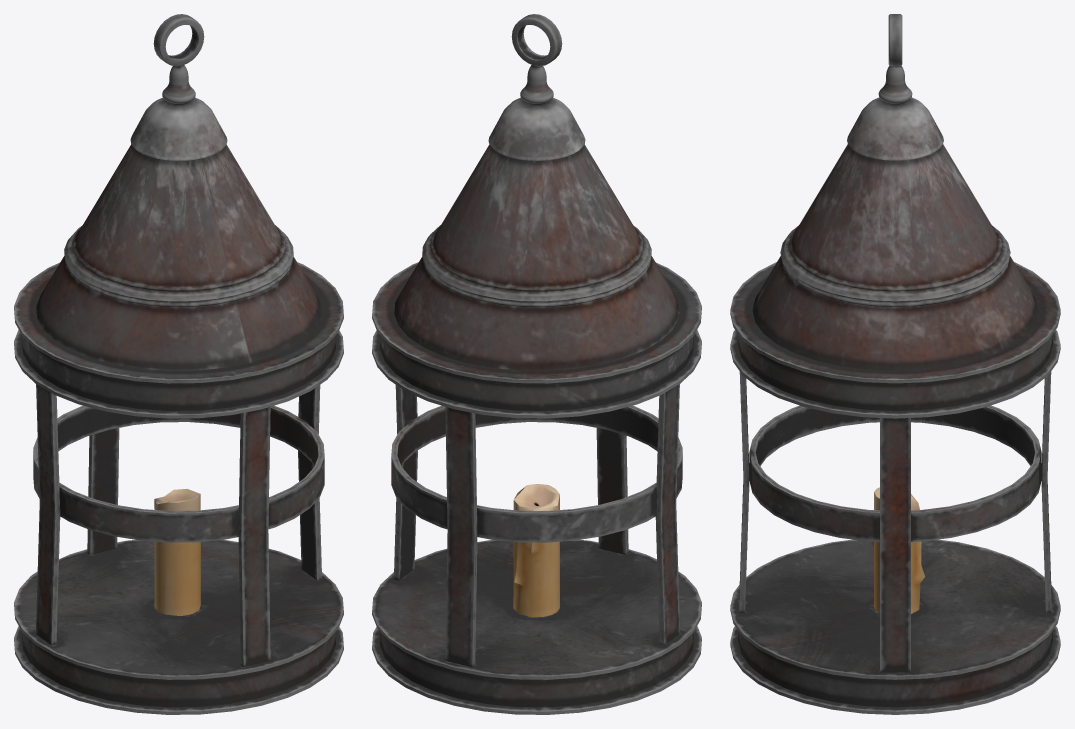
The model's file is SM_LampB.fbx.
3 renders of one model, left to right at view 1: azimuth 30°, elevation 25°; view 2: azimuth 150°, elevation 25°; view 3: azimuth 270°, elevation 25°, orthographic.
Parts seen in each view (by area): view 1: SM_LampB_LOD0; view 2: SM_LampB_LOD0; view 3: SM_LampB_LOD0.
Part boxes in pixels (x1=…): SM_LampB_LOD0: x1=14, y1=14, x2=343, y2=714; SM_LampB_LOD0: x1=372, y1=14, x2=701, y2=714; SM_LampB_LOD0: x1=730, y1=14, x2=1060, y2=714.
Size of the model in its own units: 17.92 by 17.92 by 37.6.
2 materials, 2 textured.
